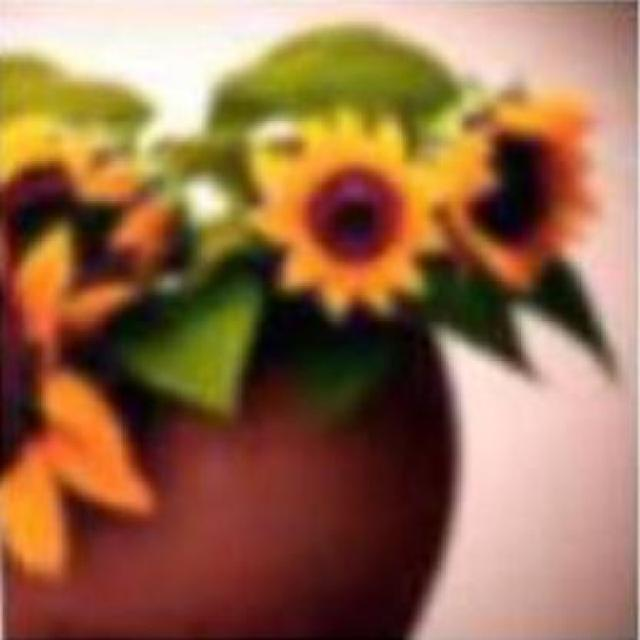sunflower: (238, 103, 458, 336), (443, 80, 610, 294)
